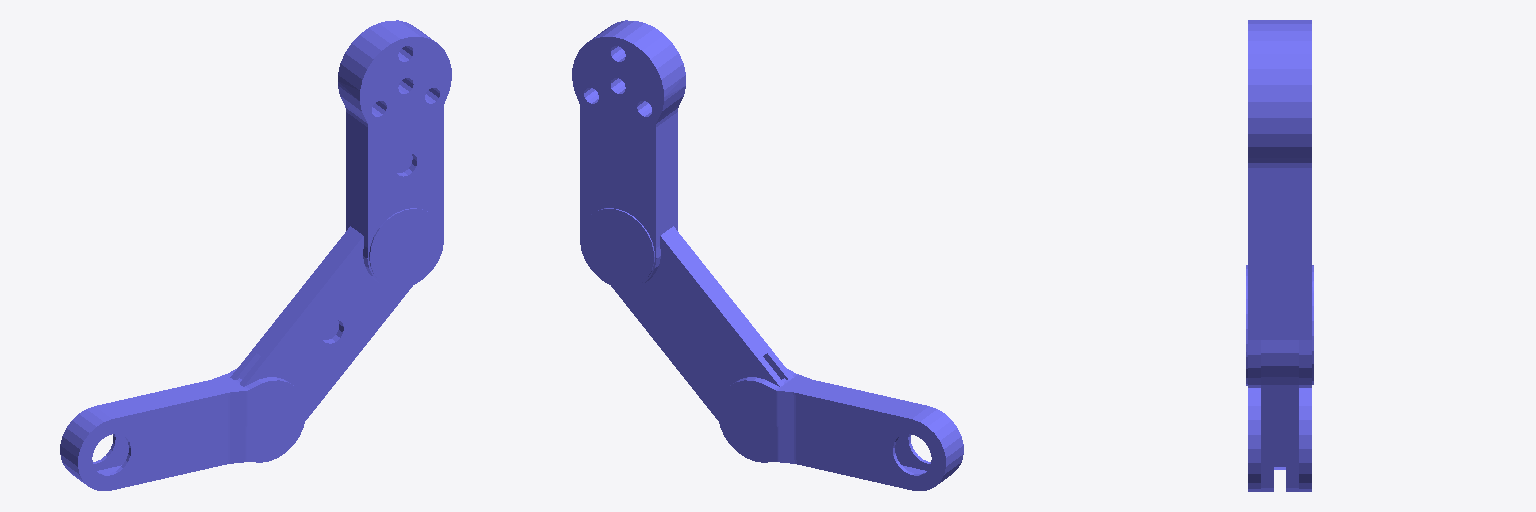
robot.urdf — Scara_discription:
<?xml version="1.0" encoding="utf-8"?>
<!-- This URDF was automatically created by SolidWorks to URDF Exporter! Originally created by [author] ([email redacted]) 
     Commit Version: 1.6.0-1-g15f4949  Build Version: 1.6.7594.29634
     For more information, please see http://wiki.ros.org/sw_urdf_exporter -->
<robot
  name="Scara_discription">
  <link
    name="base_link">
    <inertial>
      <origin
        xyz="0.0065983702120464 -0.336373566912517 -0.0257427295708327"
        rpy="0 0 0" />
      <mass
        value="2.13775890794895" />
      <inertia
        ixx="0.0447028692836465"
        ixy="-2.53128621951432E-05"
        ixz="-2.94763553843353E-07"
        iyy="0.00543037915506856"
        iyz="8.94085734844414E-06"
        izz="0.0447043656015194" />
    </inertial>
    <visual>
      <origin
        xyz="0 0 0"
        rpy="0 0 0" />
      <geometry>
        <mesh
          filename="package://Scara_discription/meshes/base_link.STL" />
      </geometry>
      <material
        name="">
        <color
          rgba="0.792156862745098 0.819607843137255 0.933333333333333 1" />
      </material>
    </visual>
    <collision>
      <origin
        xyz="0 0 0"
        rpy="0 0 0" />
      <geometry>
        <mesh
          filename="package://Scara_discription/meshes/base_link.STL" />
      </geometry>
    </collision>
  </link>
  <link
    name="link_1">
    <inertial>
      <origin
        xyz="-2.42861286636753E-17 -0.0718597871210987 0.0547320439180199"
        rpy="0 0 0" />
      <mass
        value="0.979766055196369" />
      <inertia
        ixx="0.00747669548599809"
        ixy="-2.02800889103479E-19"
        ixz="-3.30869899520394E-20"
        iyy="0.00122674898370894"
        iyz="-3.5627597442891E-06"
        izz="0.00814613143305283" />
    </inertial>
    <visual>
      <origin
        xyz="0 0 0"
        rpy="0 0 0" />
      <geometry>
        <mesh
          filename="package://Scara_discription/meshes/link_1.STL" />
      </geometry>
      <material
        name="">
        <color
          rgba="0.501960784313725 0.501960784313725 1 1" />
      </material>
    </visual>
    <collision>
      <origin
        xyz="0 0 0"
        rpy="0 0 0" />
      <geometry>
        <mesh
          filename="package://Scara_discription/meshes/link_1.STL" />
      </geometry>
    </collision>
  </link>
  <joint
    name="joint_1"
    type="prismatic">
    <origin
      xyz="0.0066366 -0.42337 -0.025756"
      rpy="1.5708 0 0" />
    <parent
      link="base_link" />
    <child
      link="link_1" />
    <axis
      xyz="0 0 1" />
    <limit
      lower="0"
      upper="0"
      effort="0"
      velocity="0" />
  </joint>
  <link
    name="link_2">
    <inertial>
      <origin
        xyz="0.041907554552202 -0.102910162256241 0.0427802539457185"
        rpy="0 0 0" />
      <mass
        value="0.735688332874957" />
      <inertia
        ixx="0.00613546628974795"
        ixy="0.00222088560941884"
        ixz="3.70139994587777E-07"
        iyy="0.00158615447807927"
        iyz="-9.08933181799181E-07"
        izz="0.00758188394305661" />
    </inertial>
    <visual>
      <origin
        xyz="0 0 0"
        rpy="0 0 0" />
      <geometry>
        <mesh
          filename="package://Scara_discription/meshes/link_2.STL" />
      </geometry>
      <material
        name="">
        <color
          rgba="0.501960784313725 0.501960784313725 1 1" />
      </material>
    </visual>
    <collision>
      <origin
        xyz="0 0 0"
        rpy="0 0 0" />
      <geometry>
        <mesh
          filename="package://Scara_discription/meshes/link_2.STL" />
      </geometry>
    </collision>
  </link>
  <joint
    name="joint_2"
    type="continuous">
    <origin
      xyz="0 -0.20072 0.012"
      rpy="0 0 -1.1868" />
    <parent
      link="link_1" />
    <child
      link="link_2" />
    <axis
      xyz="0 0 1" />
  </joint>
  <link
    name="link_3">
    <inertial>
      <origin
        xyz="-0.078650900709832 -0.0355999548034516 0.042876335168632"
        rpy="0 0 0" />
      <mass
        value="0.45430481258128" />
      <inertia
        ixx="0.00178603962041251"
        ixy="0.00136247155952827"
        ixz="4.2462506760415E-20"
        iyy="0.00198152326365703"
        iyz="-6.85073379243118E-20"
        izz="0.00352875533740904" />
    </inertial>
    <visual>
      <origin
        xyz="0 0 0"
        rpy="0 0 0" />
      <geometry>
        <mesh
          filename="package://Scara_discription/meshes/link_3.STL" />
      </geometry>
      <material
        name="">
        <color
          rgba="0.501960784313725 0.501960784313725 1 1" />
      </material>
    </visual>
    <collision>
      <origin
        xyz="0 0 0"
        rpy="0 0 0" />
      <geometry>
        <mesh
          filename="package://Scara_discription/meshes/link_3.STL" />
      </geometry>
    </collision>
  </link>
  <joint
    name="joint_3"
    type="continuous">
    <origin
      xyz="0 -0.25 0"
      rpy="0 0 1.9202" />
    <parent
      link="link_2" />
    <child
      link="link_3" />
    <axis
      xyz="0 0 1" />
  </joint>
</robot>

--- What the picture shows (computed from the rendered views, not written in the file) ---
Views: 3 orthographic renders of the robot side by side, from view 1: azimuth 30°, elevation 25°; view 2: azimuth 150°, elevation 25°; view 3: azimuth 270°, elevation 25°.
Robot: Scara_discription — 4 links, 3 joints (2 continuous, 1 prismatic); root link base_link; default pose: all joints at 0.
Links seen in each view (by area): view 1: link_1, link_3, link_2; view 2: link_1, link_3, link_2; view 3: link_1, link_2, link_3.
Link boxes in pixels (x1=…): link_1: x1=338, y1=20, x2=451, y2=288; link_3: x1=60, y1=369, x2=305, y2=490; link_2: x1=230, y1=226, x2=412, y2=420; link_1: x1=572, y1=20, x2=685, y2=288; link_3: x1=718, y1=369, x2=963, y2=490; link_2: x1=611, y1=226, x2=793, y2=420; link_1: x1=1246, y1=20, x2=1313, y2=387; link_2: x1=1261, y1=340, x2=1298, y2=491; link_3: x1=1248, y1=388, x2=1311, y2=491.
Bounding box of the posed robot: 0.4831 × 0.054 × 0.4845 m (x, y, z).
3 mesh visuals loaded from 4 distinct referenced files (3 binary STL); not drawn: 1 (reference not matched to a file when rendering).